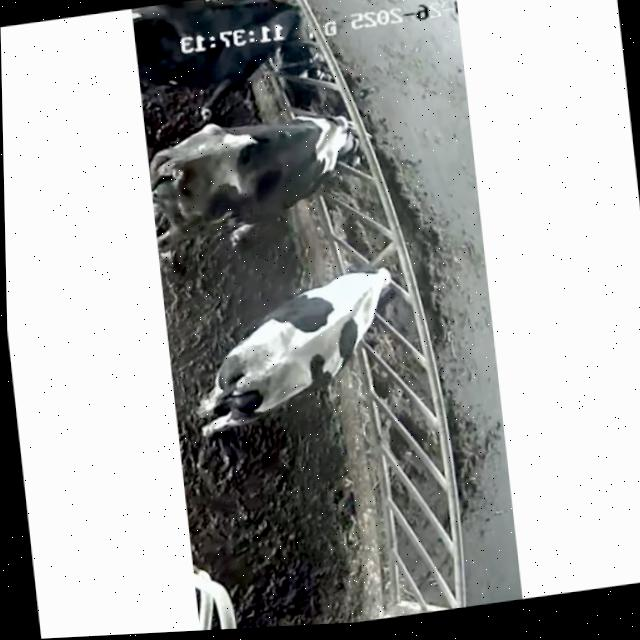eat: (300, 237, 436, 359), (210, 0, 368, 100), (266, 94, 402, 208)
